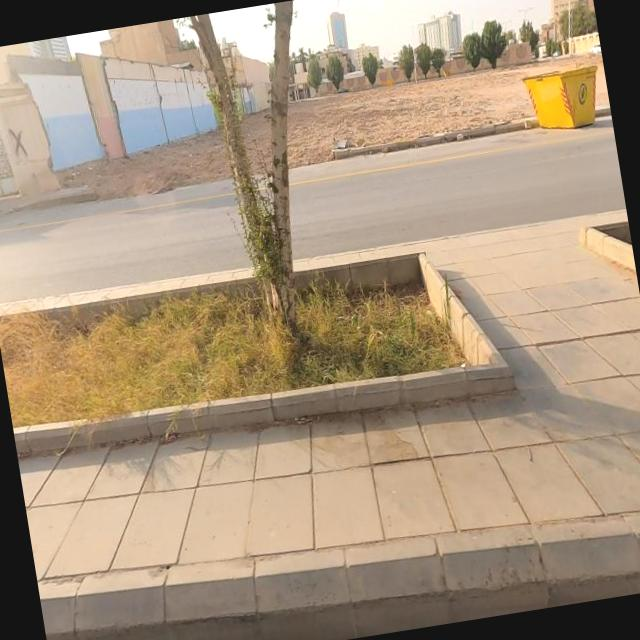debris: (468, 0, 623, 204), (0, 88, 64, 193)
